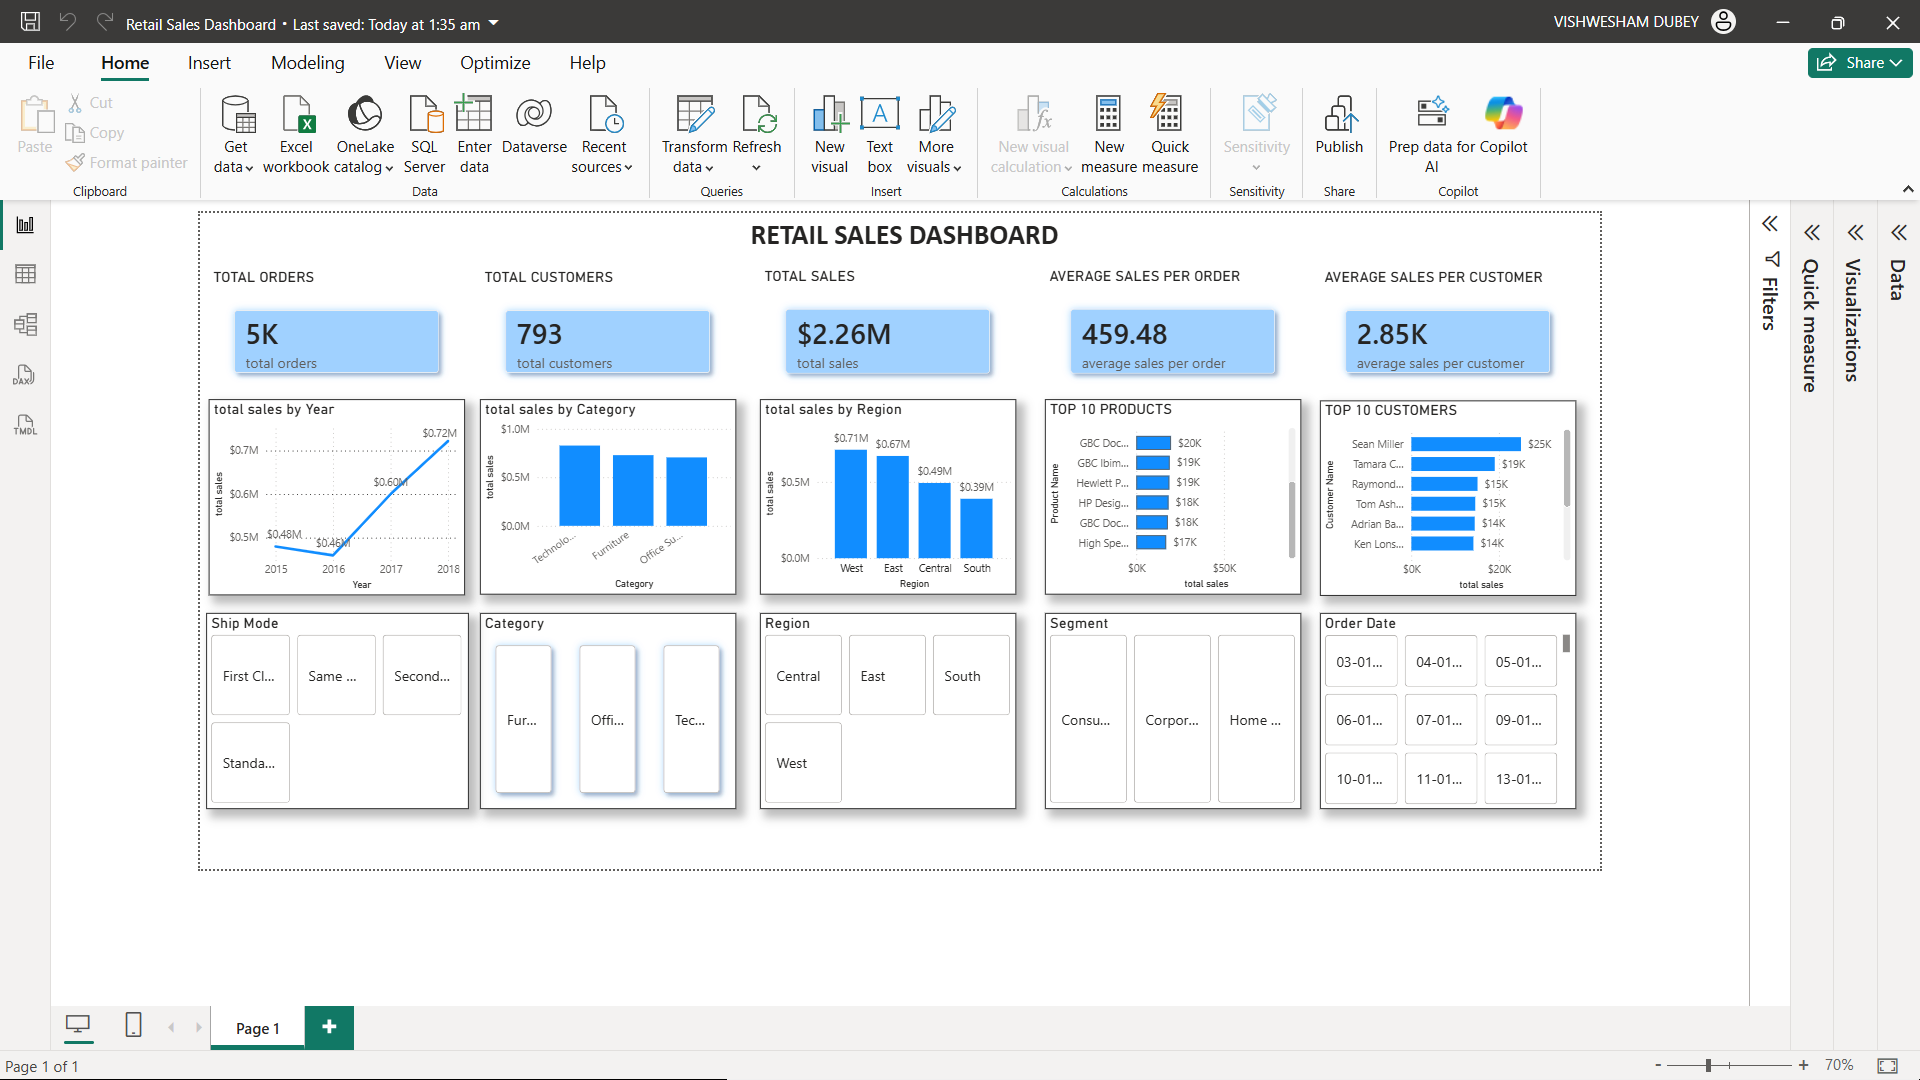

The dashboard page shown, as its layout file describes it:
{"tool":"powerbi","page":{"name":"Page 1","canvas":[1600,750],"ordinal":0},"visuals":[{"type":"textbox","box":[10,0,1590,62.9],"z":1},{"type":"cardVisual","title":"TOTAL ORDERS","fields":{"Data":["sales.total orders"]},"box":[10,62.9,292.9,150],"z":2},{"type":"cardVisual","title":"TOTAL CUSTOMERS","fields":{"Data":["sales.total customers"]},"box":[320,62.9,292.9,150],"z":3},{"type":"cardVisual","title":"AVERAGE SALES PER ORDER","fields":{"Data":["sales.average sales per order"]},"box":[965.7,61.4,292.9,151.4],"z":4},{"type":"cardVisual","title":"AVERAGE SALES PER CUSTOMER","fields":{"Data":["sales.average sales per customer"]},"box":[1280,62.9,292.9,150],"z":5},{"type":"cardVisual","title":"TOTAL SALES","fields":{"Data":["sales.total sales"]},"box":[640,61.4,292.9,151.4],"z":6},{"type":"lineChart","fields":{"Category":["sales.Order Date.Variation.Date Hierarchy.Year","sales.Order Date.Variation.Date Hierarchy.Quarter","sales.Order Date.Variation.Date Hierarchy.Month","sales.Order Date.Variation.Date Hierarchy.Day"],"Y":["sales.total sales"]},"box":[10,212.9,292.9,224.3],"z":7},{"type":"clusteredColumnChart","fields":{"Category":["sales.Category"],"Y":["sales.total sales"]},"box":[320,212.9,292.9,222.9],"z":8},{"type":"clusteredColumnChart","fields":{"Category":["sales.Region"],"Y":["sales.total sales"]},"box":[640,212.9,292.9,222.9],"z":9},{"type":"clusteredBarChart","title":"TOP 10 PRODUCTS","fields":{"Category":["sales.Product Name"],"Y":["sales.total sales"]},"box":[965.7,212.9,292.9,222.9],"z":10},{"type":"clusteredBarChart","title":"TOP 10 CUSTOMERS","fields":{"Category":["sales.Customer Name"],"Y":["sales.total sales"]},"box":[1280,214.3,292.9,222.9],"z":11},{"type":"advancedSlicerVisual","fields":{"Values":["sales.Category"]},"box":[320,457.1,292.9,224.3],"z":12},{"type":"advancedSlicerVisual","fields":{"Values":["sales.Region"]},"box":[640,457,293,224],"z":13},{"type":"advancedSlicerVisual","fields":{"Values":["sales.Segment"]},"box":[966,457,293,224],"z":14},{"type":"advancedSlicerVisual","fields":{"Values":["sales.Ship Mode"]},"box":[7.1,457.1,300,224.3],"z":15},{"type":"advancedSlicerVisual","fields":{"Values":["sales.Order Date"]},"box":[1280,457.1,292.9,224.3],"z":16}]}

Visuals, with their boxes on the page's 1600x750 design canvas (x1, y1, x2, y2). These are canvas units, not pixel positions in the 1920x1080 screenshot, which may show the page scaled, cropped or inside an application window:
textbox: locate(10, 0, 1600, 63)
"TOTAL ORDERS" cardVisual: locate(10, 63, 303, 213)
"TOTAL CUSTOMERS" cardVisual: locate(320, 63, 613, 213)
"AVERAGE SALES PER ORDER" cardVisual: locate(966, 61, 1259, 213)
"AVERAGE SALES PER CUSTOMER" cardVisual: locate(1280, 63, 1573, 213)
"TOTAL SALES" cardVisual: locate(640, 61, 933, 213)
lineChart - sales.Order Date.Variation.Date Hierarchy.Year x sales.Order Date.Variation.Date Hierarchy.Quarter: locate(10, 213, 303, 437)
clusteredColumnChart - sales.Category x sales.total sales: locate(320, 213, 613, 436)
clusteredColumnChart - sales.Region x sales.total sales: locate(640, 213, 933, 436)
"TOP 10 PRODUCTS" clusteredBarChart: locate(966, 213, 1259, 436)
"TOP 10 CUSTOMERS" clusteredBarChart: locate(1280, 214, 1573, 437)
advancedSlicerVisual - sales.Category: locate(320, 457, 613, 681)
advancedSlicerVisual - sales.Region: locate(640, 457, 933, 681)
advancedSlicerVisual - sales.Segment: locate(966, 457, 1259, 681)
advancedSlicerVisual - sales.Ship Mode: locate(7, 457, 307, 681)
advancedSlicerVisual - sales.Order Date: locate(1280, 457, 1573, 681)
